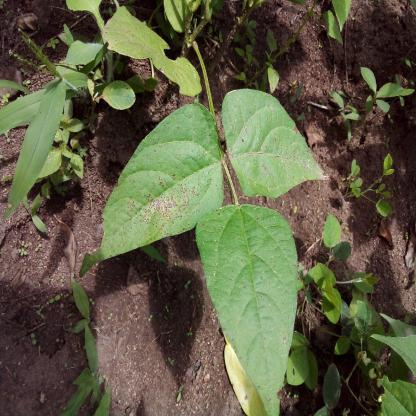Beans_Angular_LeafSpot: (88, 100, 214, 272), (197, 200, 296, 414), (224, 88, 331, 197), (99, 3, 206, 94)
